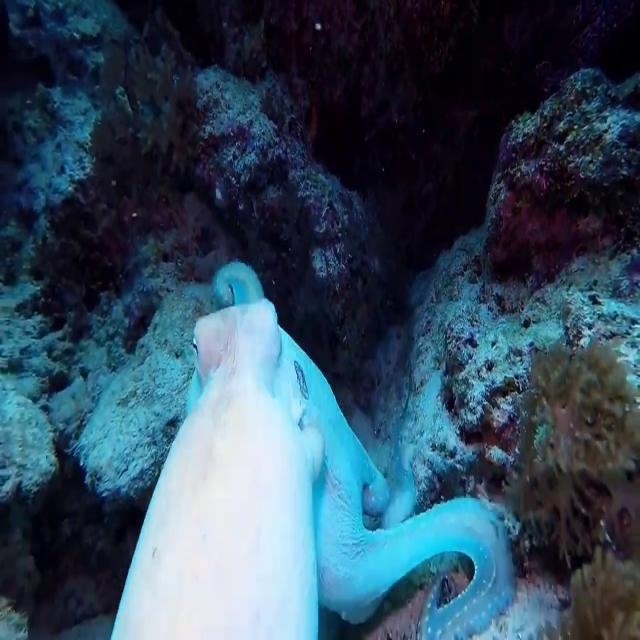octopus: (110, 270, 524, 640)
